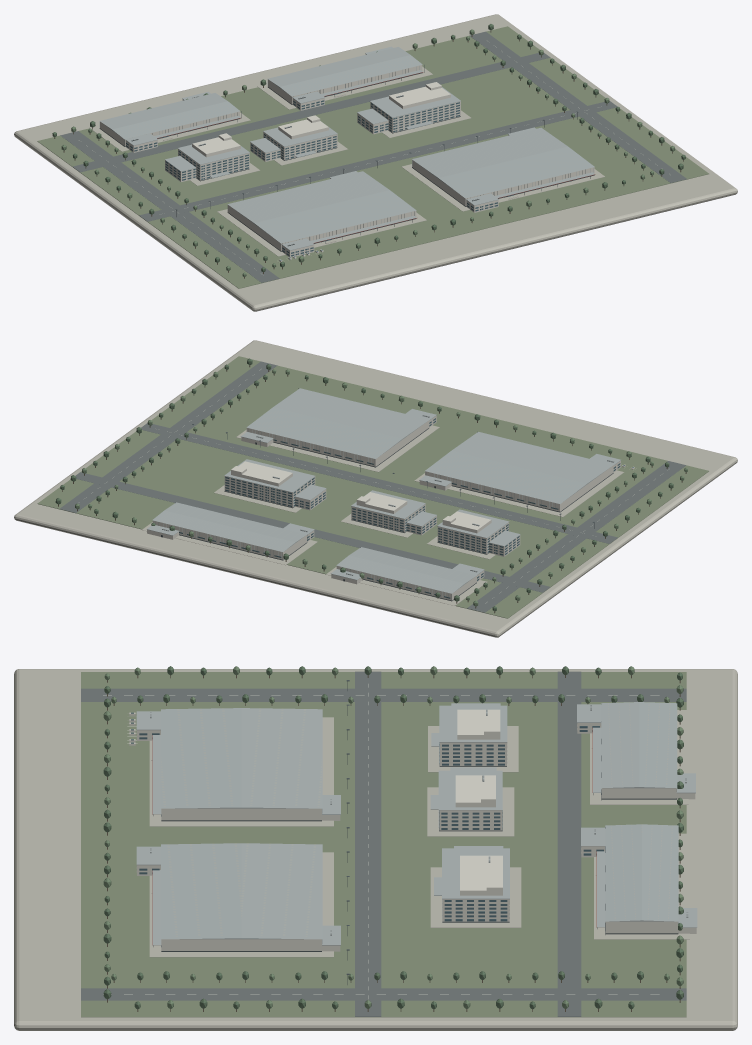
The picture shows the model from 3 angles, top to bottom: view 1: azimuth 30°, elevation 25°; view 2: azimuth 150°, elevation 25°; view 3: azimuth 270°, elevation 25°; orthographic projection. The views are drawn at different scales.
Parts seen in each view (by area): view 1: EI_terrain, EI_study_base, EI_hero_roof, EI_pair_roof, EI_road.002, EI_road.003, EI_road, EI_bg02_roof, EI_road.001, EI_bg01_roof, EI_hero, EI_pair (+17 smaller); view 2: EI_terrain, EI_study_base, EI_hero_roof, EI_pair_roof, EI_road.002, EI_road, EI_bg02_roof, EI_road.003, EI_road.001, EI_bg01_roof, EI_hero, EI_pair (+18 smaller); view 3: EI_terrain, EI_study_base, EI_hero_roof, EI_pair_roof, EI_road.002, EI_road.003, EI_bg02_roof, EI_road, EI_road.001, EI_bg01_roof, EI_hero_apron, EI_pair_apron (+27 smaller).
Boxes of the visible parts, x1,y1,x2,y2 form: EI_terrain: (37, 26, 708, 288); EI_study_base: (14, 14, 737, 311); EI_hero_roof: (227, 171, 416, 243); EI_pair_roof: (412, 127, 594, 198); EI_road.002: (139, 101, 617, 221); EI_road.003: (73, 53, 550, 172); EI_road: (60, 131, 279, 282); EI_bg02_roof: (267, 47, 422, 96); EI_road.001: (469, 31, 686, 182); EI_bg01_roof: (100, 93, 240, 139); EI_hero: (227, 205, 416, 251); EI_pair: (412, 160, 594, 206); EI_terrain: (37, 356, 708, 618); EI_study_base: (14, 340, 737, 637); EI_hero_roof: (425, 432, 613, 503); EI_pair_roof: (246, 388, 429, 458); EI_road.002: (141, 423, 617, 543); EI_road: (467, 461, 685, 612); EI_bg02_roof: (152, 502, 306, 551); EI_road.003: (75, 472, 550, 592); EI_road.001: (60, 361, 277, 512); EI_bg01_roof: (336, 547, 476, 593); EI_hero: (425, 465, 613, 511); EI_pair: (246, 420, 429, 466); EI_terrain: (81, 672, 686, 1017); EI_study_base: (14, 669, 737, 1030); EI_hero_roof: (161, 708, 322, 808); EI_pair_roof: (161, 843, 322, 939); EI_road.002: (355, 671, 381, 1016); EI_road.003: (557, 671, 581, 1016); EI_bg02_roof: (605, 824, 678, 921); EI_road: (81, 688, 686, 701); EI_road.001: (81, 988, 686, 1000); EI_bg01_roof: (601, 702, 677, 788); EI_hero_apron: (149, 717, 333, 826); EI_pair_apron: (149, 852, 333, 957).
Size of the model in its own units: 640 by 36.6 by 550.
